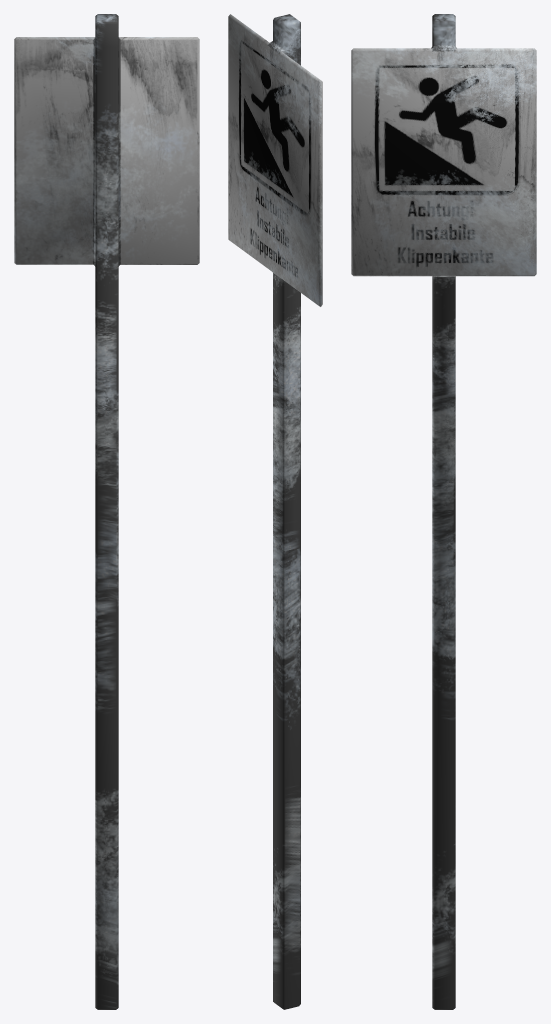
File: sign_cliff.fbx
3 views of the same model, side by side, from view 1: azimuth 90°, elevation 25°; view 2: azimuth 210°, elevation 25°; view 3: azimuth 270°, elevation 25° (orthographic).
Parts seen in each view (by area): view 1: Cube; view 2: Cube; view 3: Cube.
Part boxes in pixels (x1=…): Cube: x1=14, y1=14, x2=199, y2=1009; Cube: x1=228, y1=14, x2=322, y2=1009; Cube: x1=351, y1=14, x2=536, y2=1009.
Size of the model in its own units: 28.58 by 1176 by 200.
